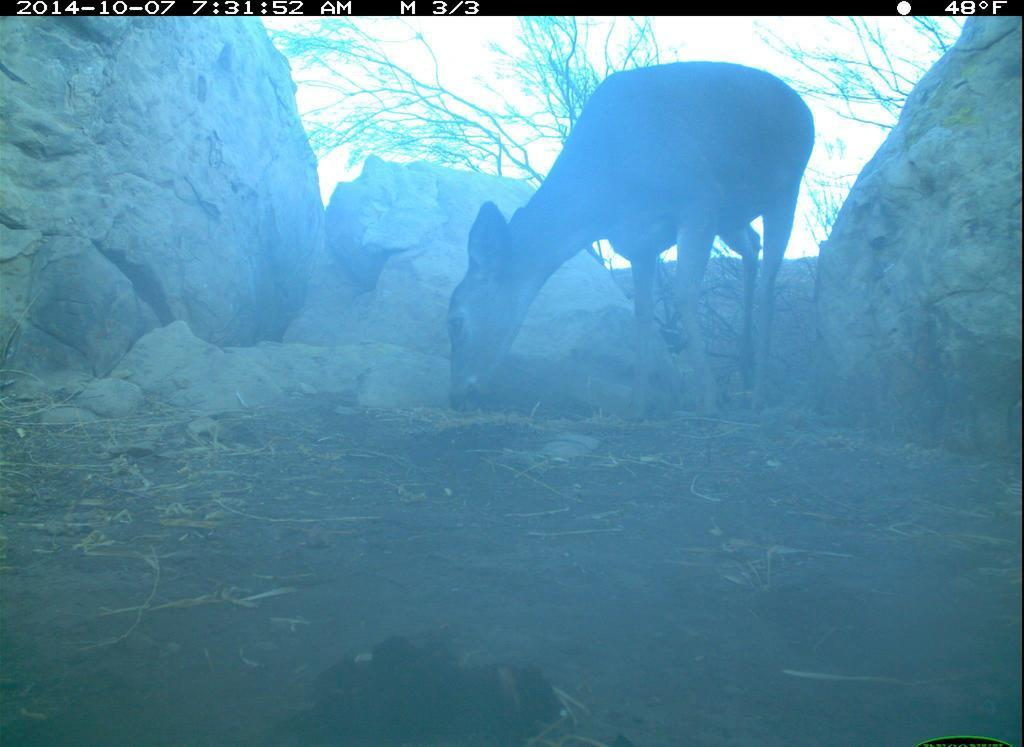deer: (436, 57, 825, 434)
